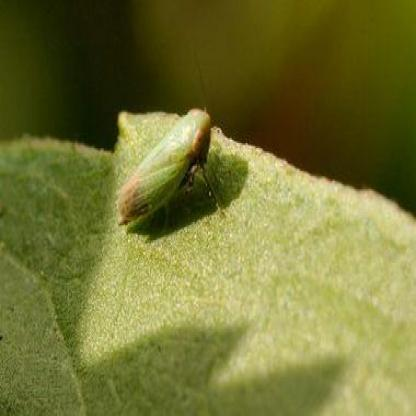green-leafhopper: (117, 110, 214, 229)
